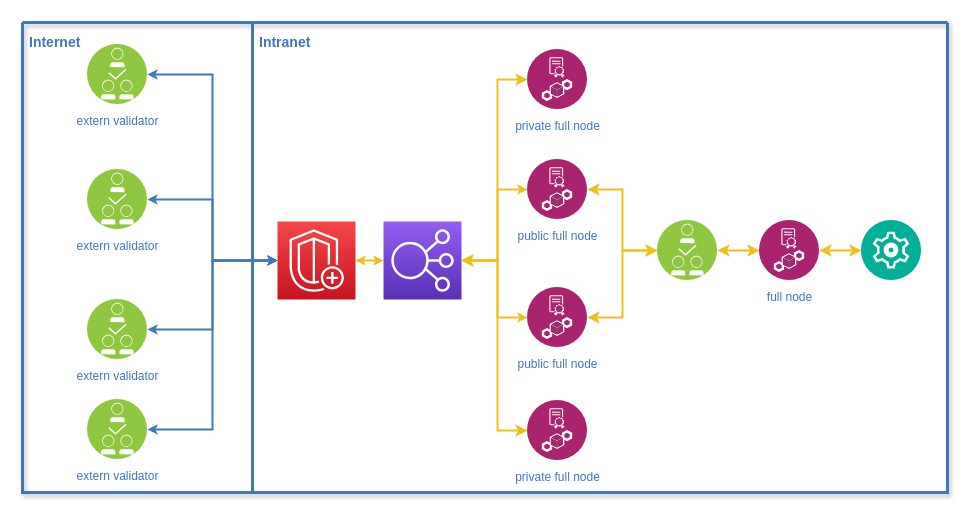
Some shapes in this 972 by 518 pixel diagram are drawn without their labels. The centre of each missing label's shape, as x and y in pixels:
"Anti-DDoS Advanced" belongs at (x=316, y=260).
"Load Balancer" belongs at (x=422, y=260).
"operations platform" belongs at (x=891, y=250).
"validator" belongs at (x=687, y=250).
